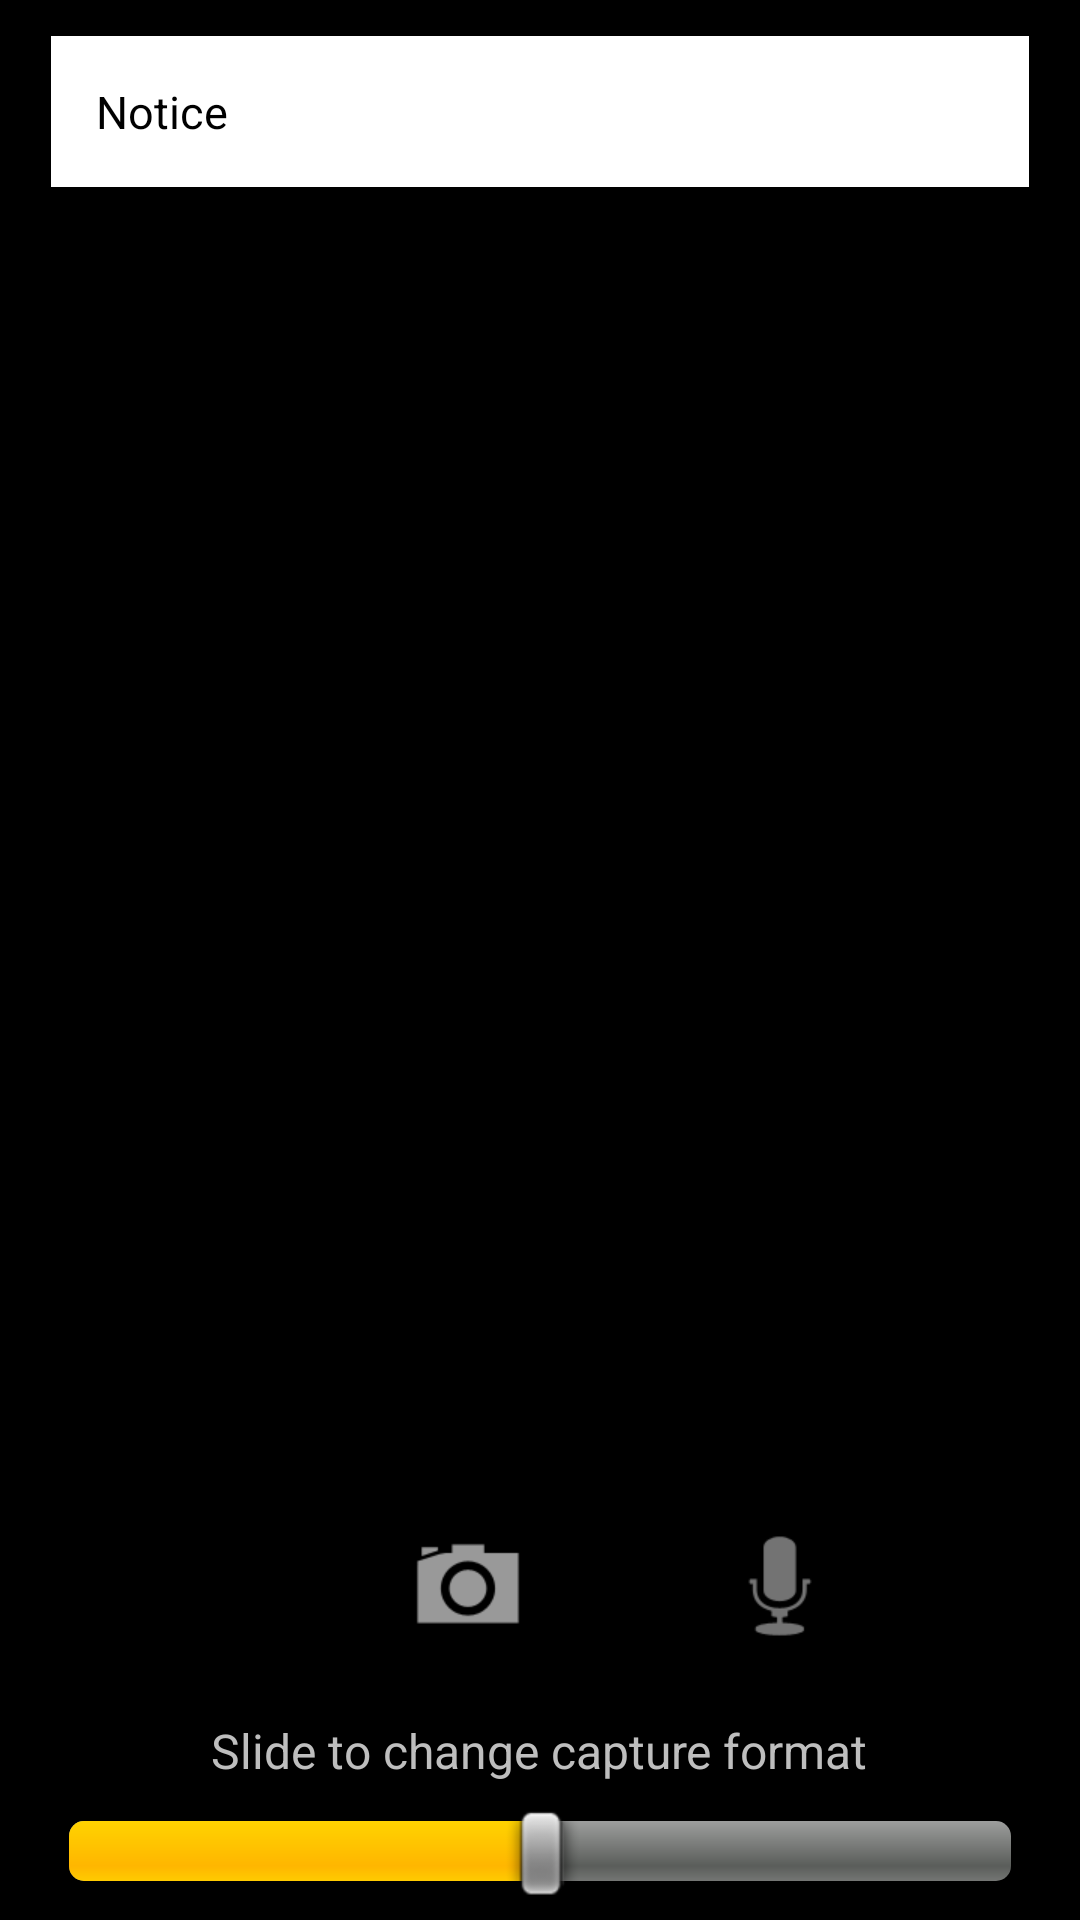

Screen size 1080w x 1920h. Icon name, then its box in pixels as rect(x1, y1, x2, y2):
Switch front/back camera: rect(417, 1544, 519, 1624)
Toggle microphone on/off: rect(749, 1536, 811, 1636)
